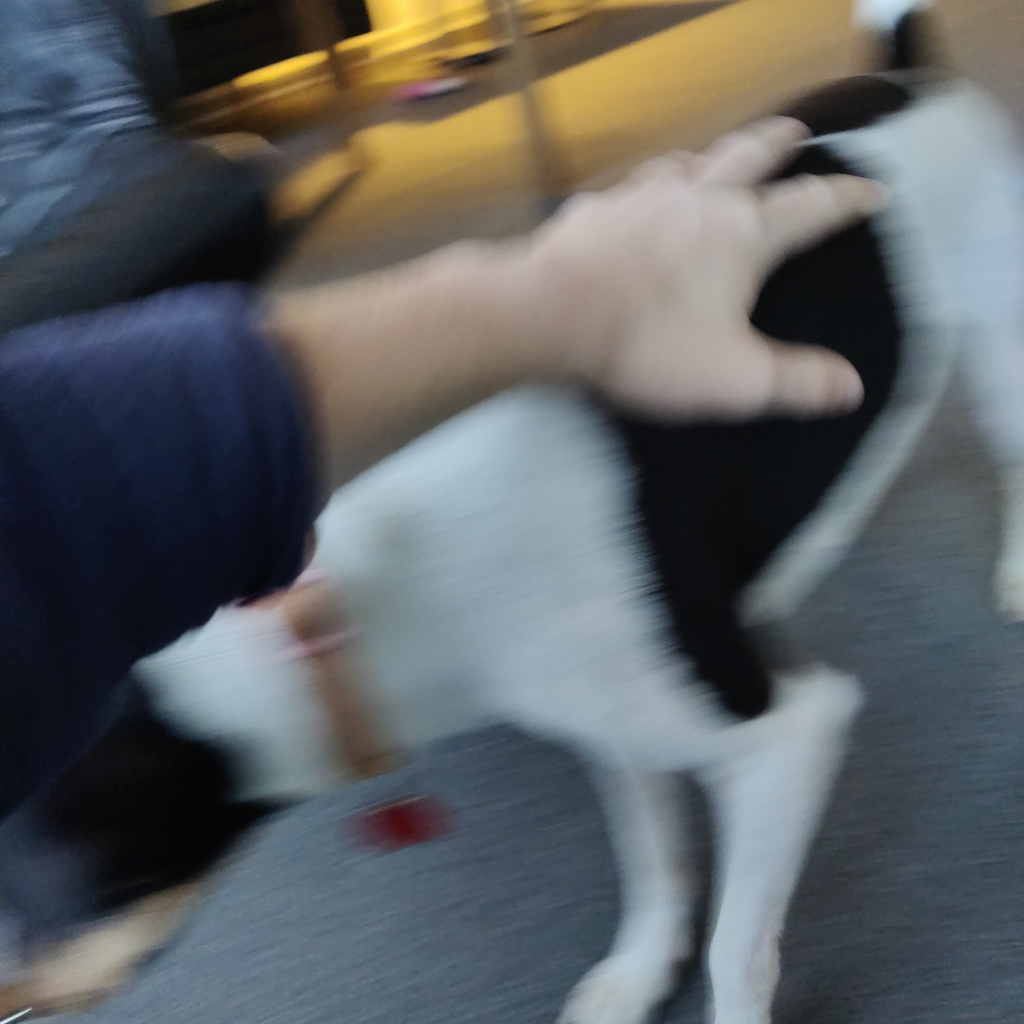Dog: (0, 0, 1024, 1024)
Humanoid: (0, 91, 933, 801)
